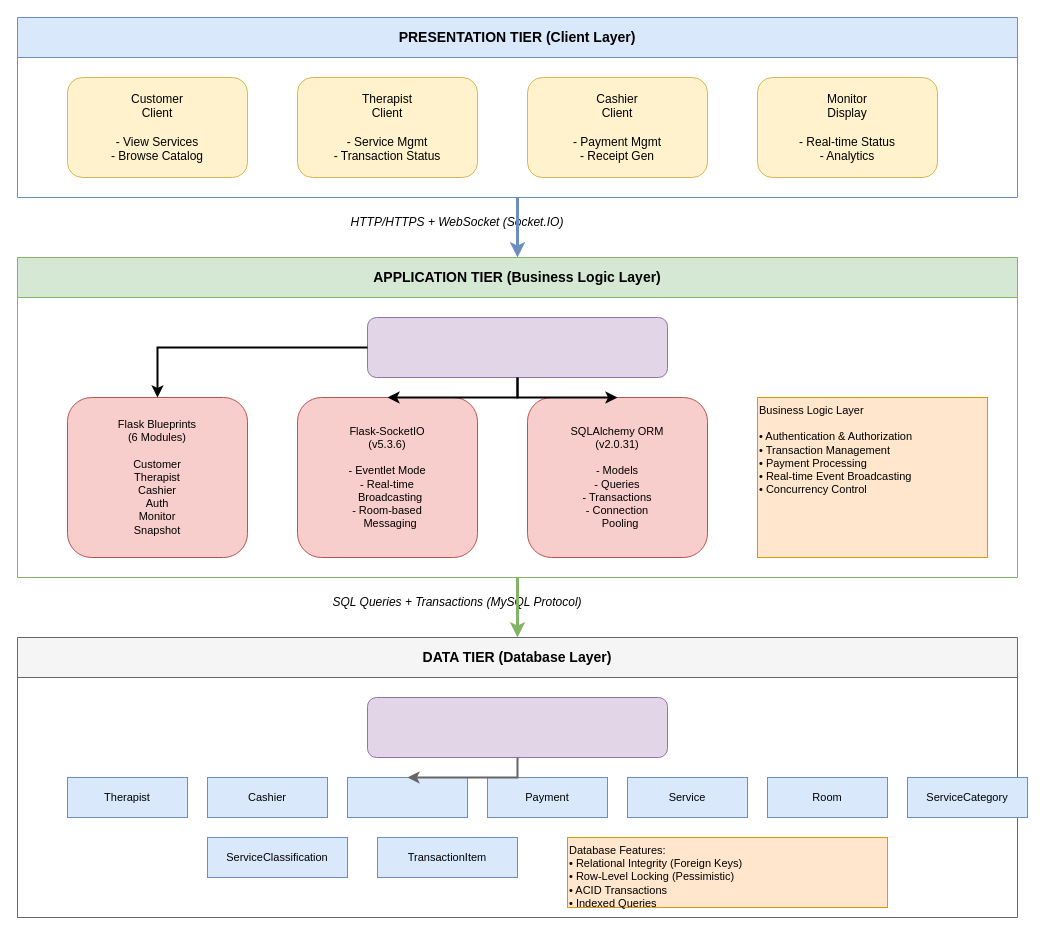
This 1045x935 diagram has some shape labels left out. The shapes that lost their labels are listed below. From the top down, each one's centre as x and y in pixels, then its label:
At (x=517, y=347): "Flask Web Server (Python 3.x / WSGI)".
At (x=517, y=727): "MySQL Database Server (XAMPP MySQL v8.x)".
At (x=407, y=797): "Transaction".
